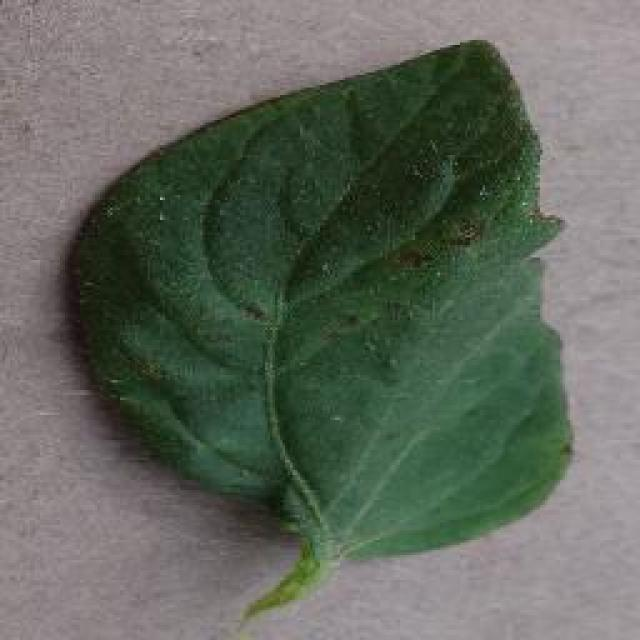Tomato___Bacterial_spot: (64, 38, 578, 638)
